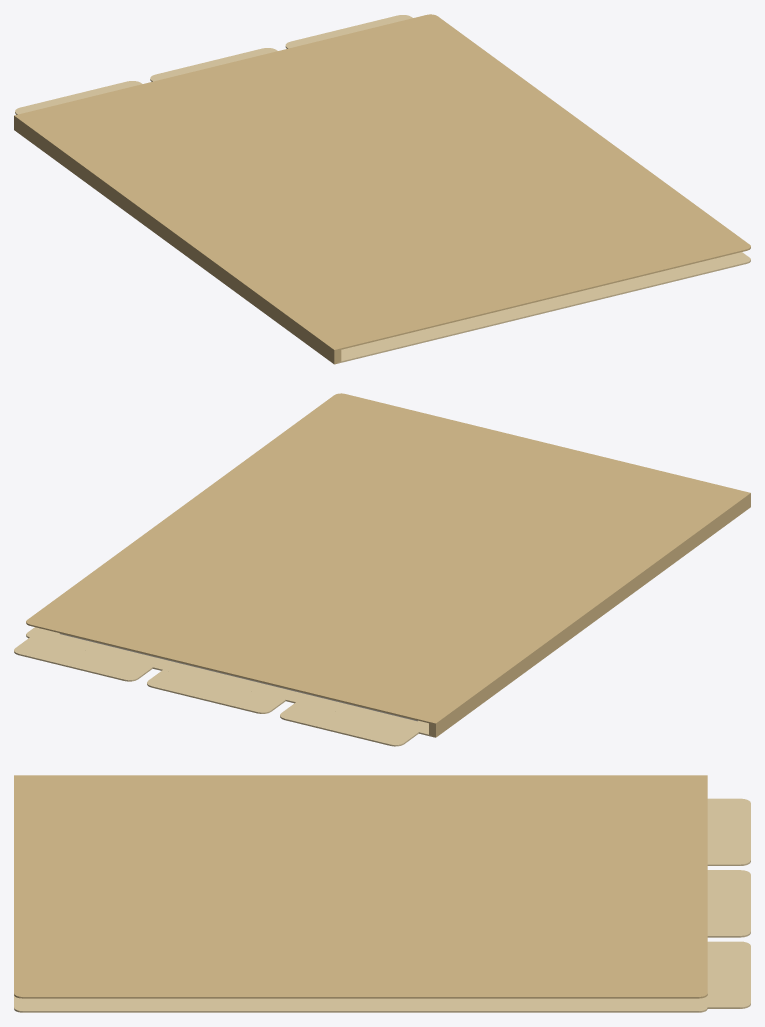
Rendered from folder.glb.
3 renders of one model, top to bottom at view 1: azimuth 30°, elevation 25°; view 2: azimuth 150°, elevation 25°; view 3: azimuth 270°, elevation 25°, orthographic. The views are drawn at different scales.
Visible parts, largest first — view 1: FOLDER_Cover, FOLDER_Spine, FOLDER_Back, FOLDER_Tab_SetAside, FOLDER_Tab_All, FOLDER_Tab_Foundations; view 2: FOLDER_Cover, FOLDER_Spine, FOLDER_Back, FOLDER_Tab_SetAside, FOLDER_Tab_All, FOLDER_Tab_Foundations; view 3: FOLDER_Cover, FOLDER_Back, FOLDER_Tab_Foundations, FOLDER_Tab_SetAside, FOLDER_Tab_All, FOLDER_Spine.
Boxes of the visible parts, x1=… form: FOLDER_Cover: x1=21, y1=14, x2=750, y2=350; FOLDER_Spine: x1=14, y1=114, x2=341, y2=364; FOLDER_Back: x1=337, y1=252, x2=750, y2=363; FOLDER_Tab_SetAside: x1=285, y1=15, x2=412, y2=48; FOLDER_Tab_All: x1=15, y1=81, x2=142, y2=114; FOLDER_Tab_Foundations: x1=150, y1=48, x2=277, y2=81; FOLDER_Cover: x1=26, y1=393, x2=743, y2=723; FOLDER_Spine: x1=429, y1=491, x2=750, y2=737; FOLDER_Back: x1=26, y1=627, x2=432, y2=736; FOLDER_Tab_SetAside: x1=14, y1=637, x2=152, y2=681; FOLDER_Tab_All: x1=280, y1=702, x2=418, y2=746; FOLDER_Tab_Foundations: x1=147, y1=670, x2=285, y2=713; FOLDER_Cover: x1=14, y1=779, x2=707, y2=998; FOLDER_Back: x1=14, y1=995, x2=707, y2=1012; FOLDER_Tab_Foundations: x1=707, y1=870, x2=750, y2=937; FOLDER_Tab_SetAside: x1=707, y1=941, x2=750, y2=1008; FOLDER_Tab_All: x1=707, y1=798, x2=750, y2=865; FOLDER_Spine: x1=14, y1=775, x2=707, y2=778.
Size of the model in its own units: 0.242 by 0.00801 by 0.34.
